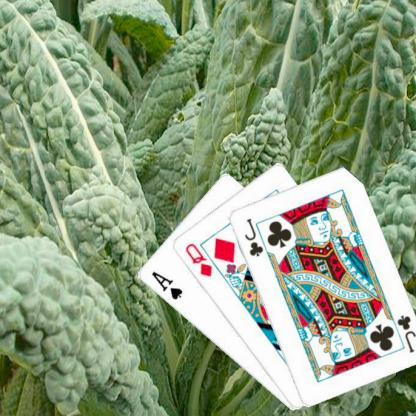AS: (148, 269, 184, 301)
JC: (393, 311, 416, 354), (242, 215, 264, 258)
QD: (182, 240, 213, 278)
